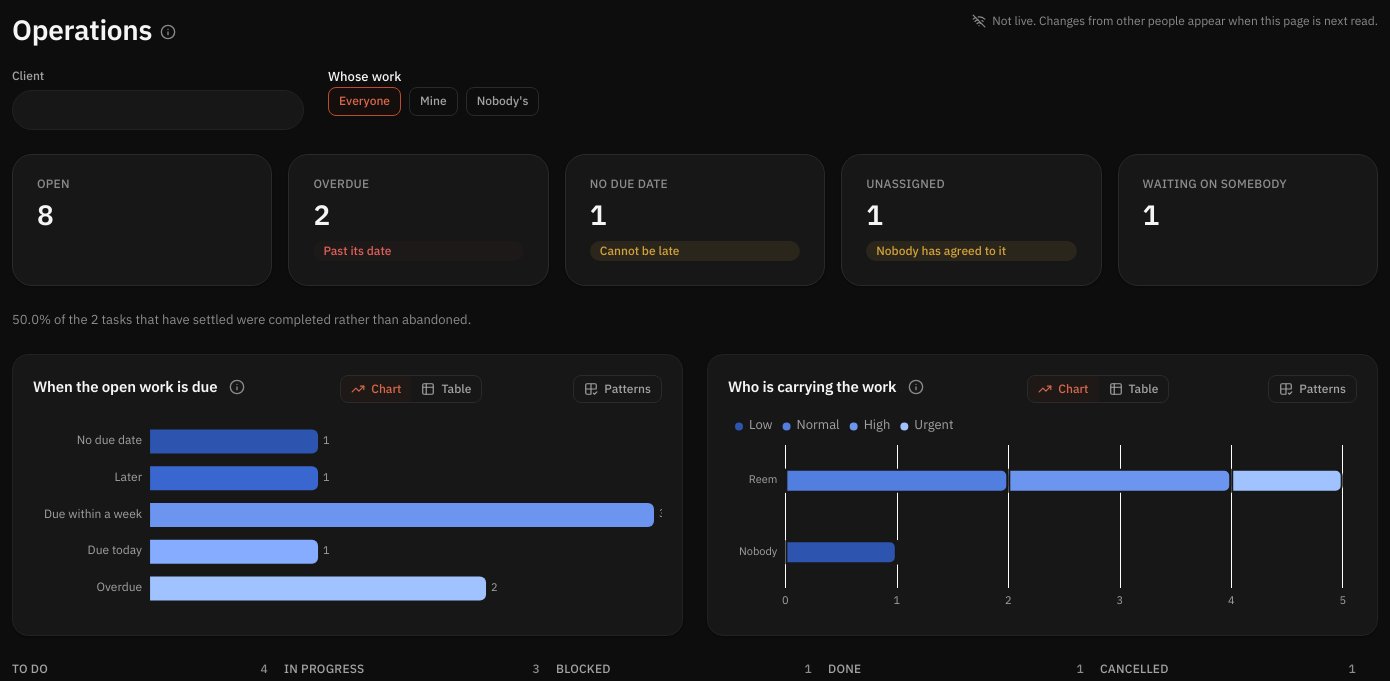
Test: the operations board › draws undated work as its own bucket in the due profile
This screenshot has width=1390, height=681.
Click the button "Table" in the row of "When the open work is due": (446, 389) [412,376,481,402]
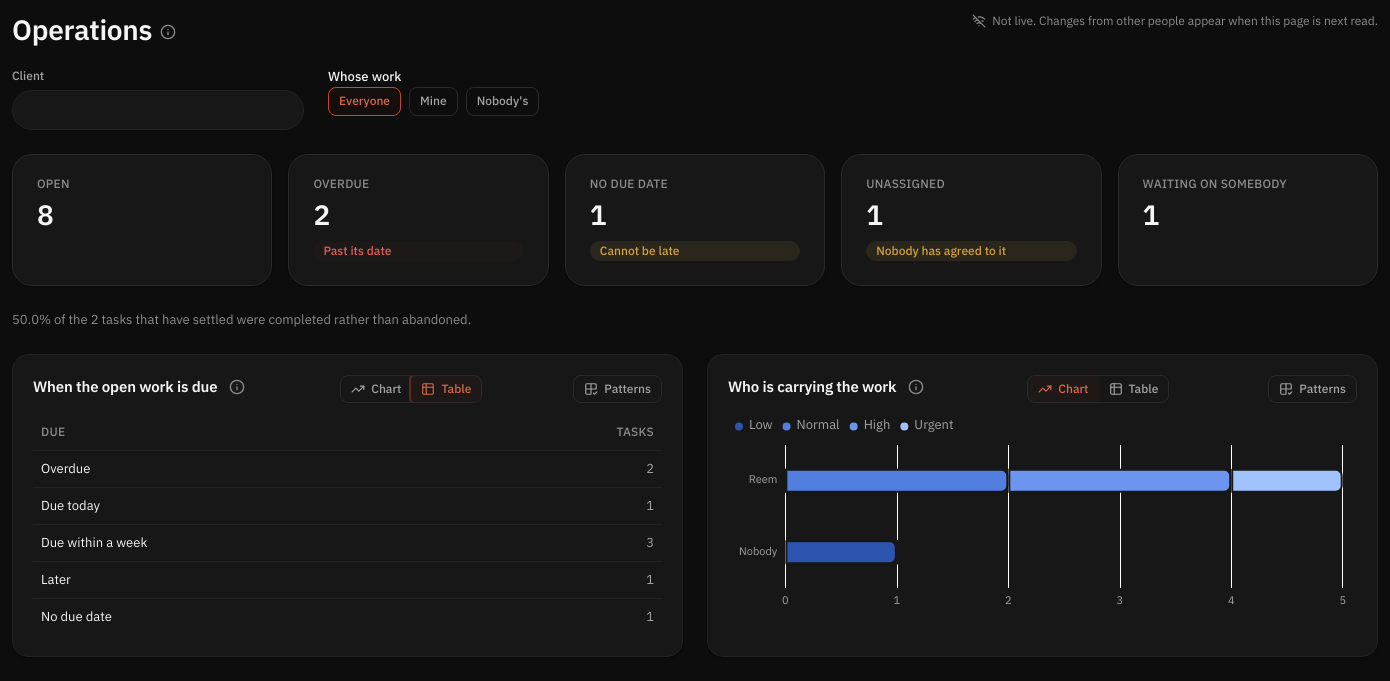
Expected: the row "No due date 1" is shown, [33,599,662,636]
Expected: the row "Later 1" is shown, [33,562,662,599]
